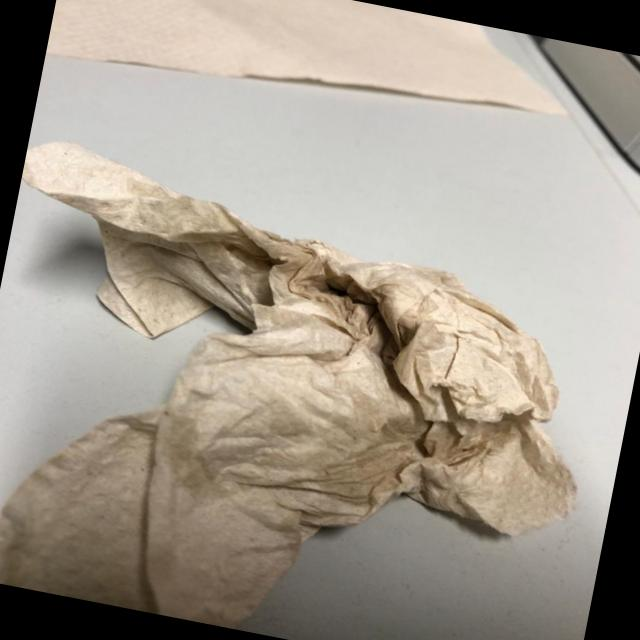organic waste: (0, 127, 631, 640)
